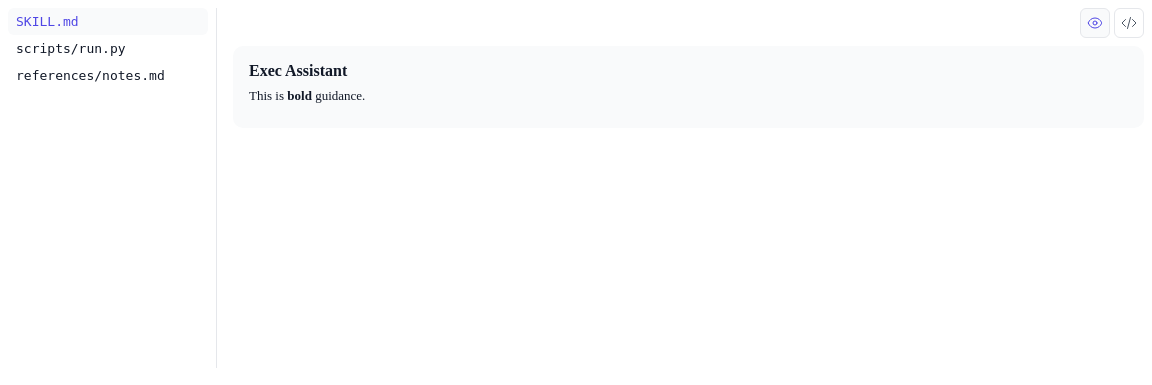
Test: Contents › a bundled markdown file also defaults to Preview
Click the button with test id "contents-file-references/notes.md": (108, 76) left=8, top=62, right=208, bottom=89
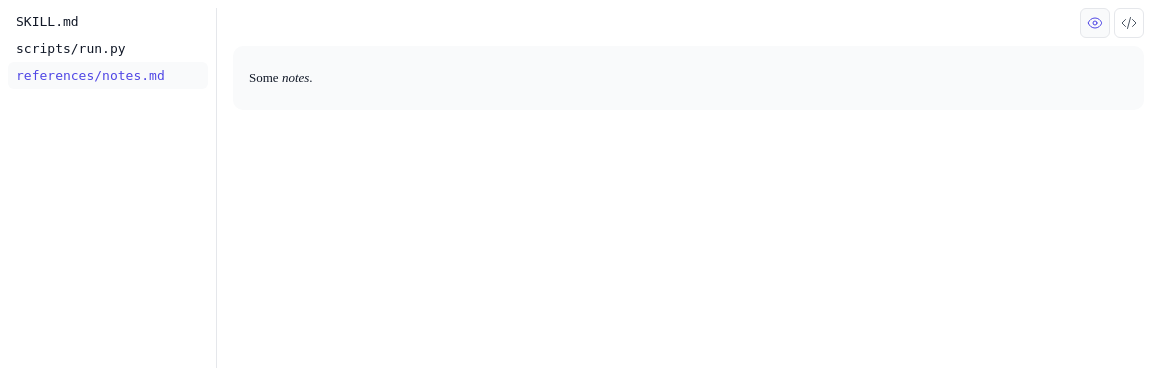
Expected: the text "notes" is shown, left=282, top=70, right=309, bottom=85
